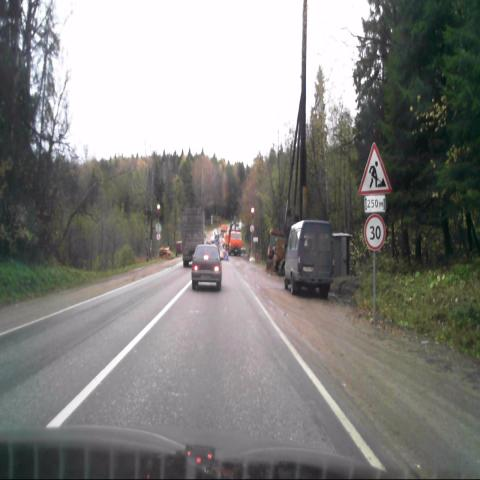1_25: (358, 141, 392, 194)
3_24: (363, 213, 386, 251)
8_2_1: (363, 195, 386, 212)
